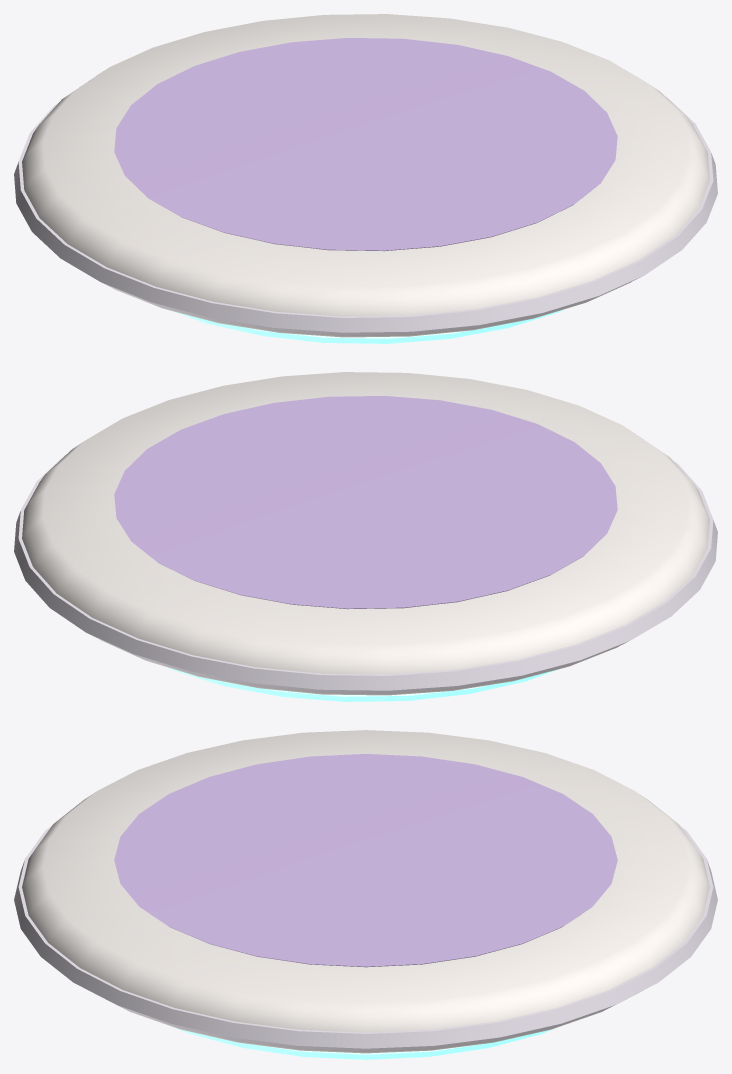
The model's file is floating_platform.glb.
3 views of the same model, one above another, from view 1: azimuth 30°, elevation 25°; view 2: azimuth 150°, elevation 25°; view 3: azimuth 270°, elevation 25° (orthographic).
Parts seen in each view (by area): view 1: floating_platform; view 2: floating_platform; view 3: floating_platform.
Boxes of the visible parts, bbox=[...] form: floating_platform: bbox=[14, 14, 717, 343]; floating_platform: bbox=[14, 372, 717, 701]; floating_platform: bbox=[14, 730, 717, 1059].
Bounding box in the file's own units: 3.35 × 0.76 × 3.35.
